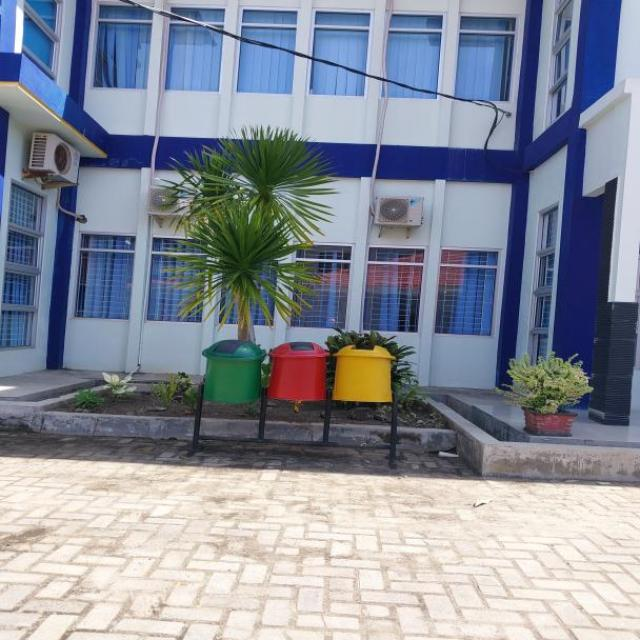dustbin ahead at: (192, 332, 401, 426)
plant ahead at: (502, 346, 590, 439)
